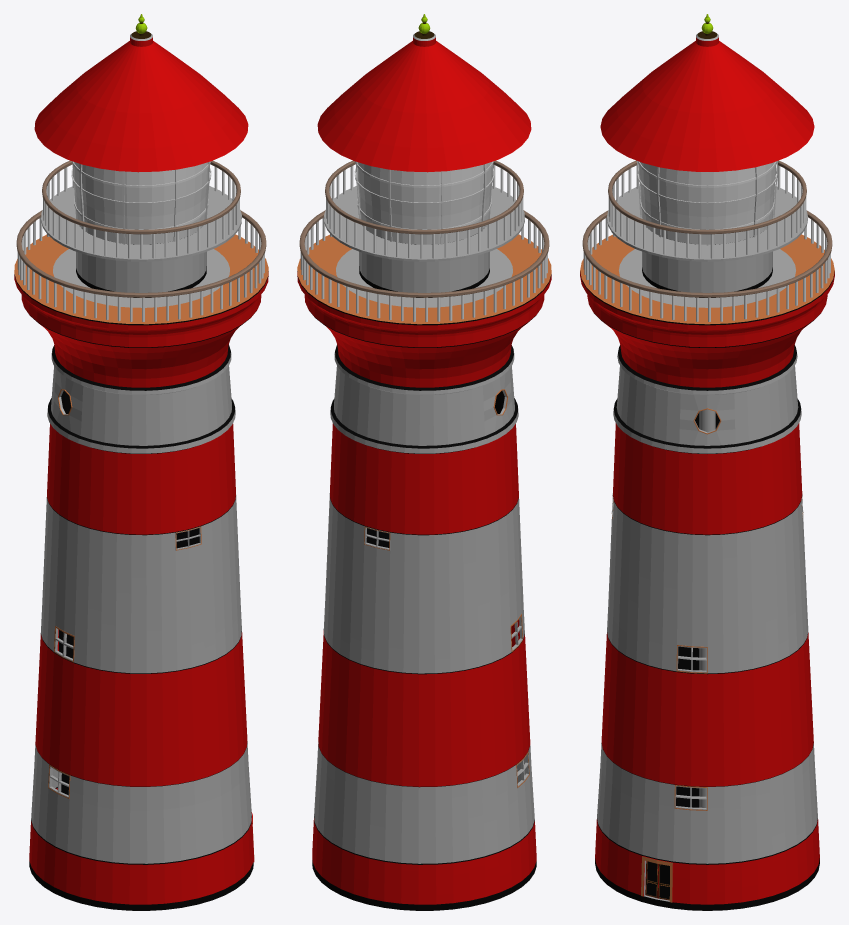
File: lighthouse.obj
3 renders of one model, left to right at view 1: azimuth 30°, elevation 25°; view 2: azimuth 150°, elevation 25°; view 3: azimuth 270°, elevation 25°, orthographic.
Parts seen in each view (by area): view 1: Cylinder, Cylinder.002, Cylinder.001, Cylinder.003_Cylinder.004, BezierCircle, BezierCircle.001_BezierCircle.002; view 2: Cylinder, Cylinder.002, Cylinder.001, Cylinder.003_Cylinder.004, BezierCircle, BezierCircle.001_BezierCircle.002; view 3: Cylinder, Cylinder.002, Cylinder.001, Cylinder.003_Cylinder.004, BezierCircle, BezierCircle.001_BezierCircle.002.
Part boxes in pixels (x1=…): Cylinder: x1=14, y1=186, x2=268, y2=910; Cylinder.002: x1=34, y1=14, x2=248, y2=297; Cylinder.001: x1=17, y1=217, x2=264, y2=321; Cylinder.003_Cylinder.004: x1=43, y1=164, x2=239, y2=258; BezierCircle: x1=16, y1=210, x2=266, y2=297; BezierCircle.001_BezierCircle.002: x1=42, y1=160, x2=240, y2=234; Cylinder: x1=297, y1=186, x2=551, y2=910; Cylinder.002: x1=317, y1=14, x2=531, y2=297; Cylinder.001: x1=300, y1=217, x2=547, y2=321; Cylinder.003_Cylinder.004: x1=326, y1=164, x2=523, y2=258; BezierCircle: x1=299, y1=210, x2=549, y2=297; BezierCircle.001_BezierCircle.002: x1=325, y1=160, x2=523, y2=234; Cylinder: x1=580, y1=186, x2=834, y2=910; Cylinder.002: x1=600, y1=14, x2=814, y2=297; Cylinder.001: x1=583, y1=217, x2=830, y2=321; Cylinder.003_Cylinder.004: x1=608, y1=164, x2=806, y2=258; BezierCircle: x1=582, y1=210, x2=832, y2=297; BezierCircle.001_BezierCircle.002: x1=608, y1=160, x2=806, y2=234.
Size of the model in its own units: 6.06 by 22.31 by 6.06.
